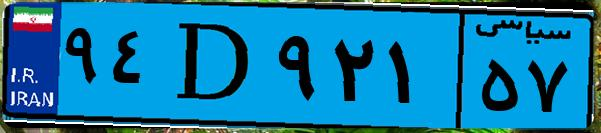1: (385, 28, 445, 110)
2: (330, 28, 385, 110)
4: (110, 28, 158, 98)
5: (475, 38, 525, 113)
7: (525, 38, 570, 115)
9: (270, 28, 330, 110), (57, 26, 110, 100)
D: (158, 12, 270, 120)
